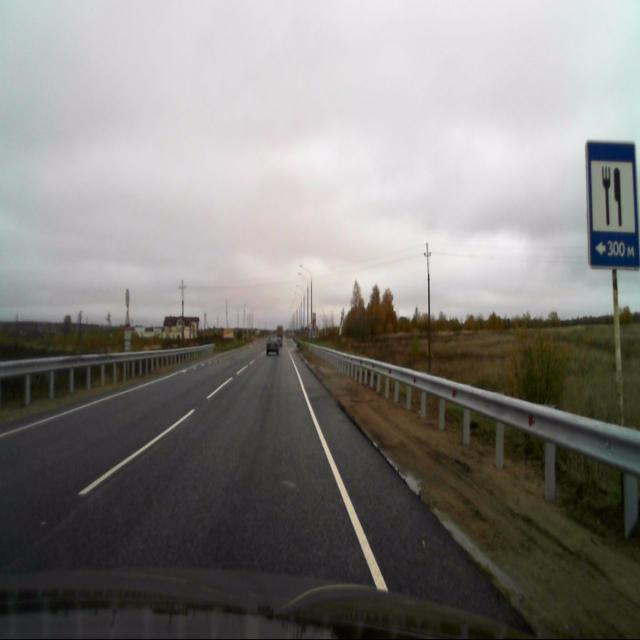object: (612, 271, 626, 428)
road sign: (586, 138, 638, 269)
